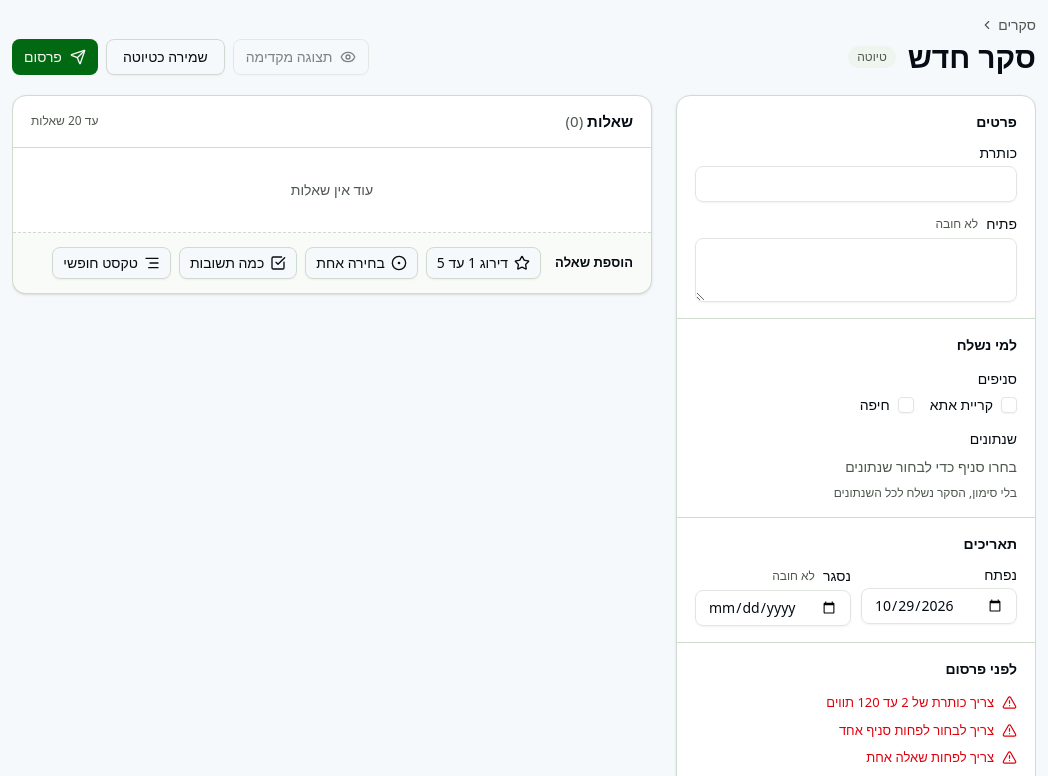
Test case: SurveyBuilder: Questions › the first Question cannot move up and the last cannot move down
What coordinates should you click on to do the following:
click the button "טקסט חופשי"
I would click on:
 (112, 262)
Its box is left=52, top=246, right=171, bottom=278.
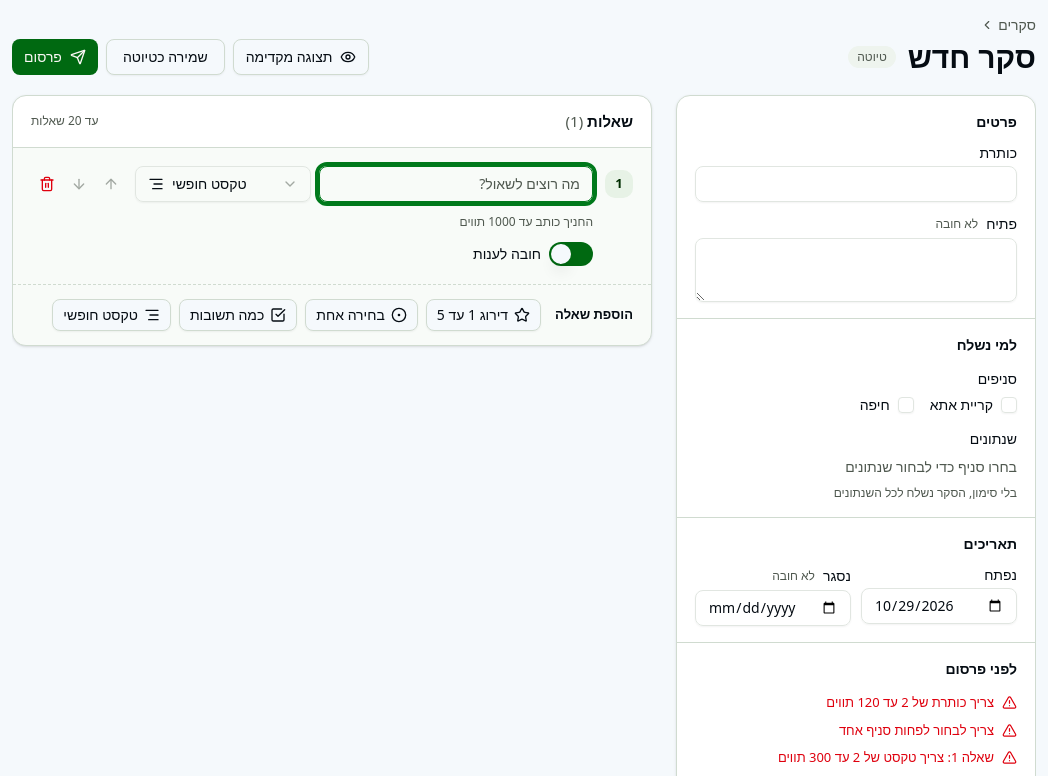
What coordinates should you click on to do the following:
click the button "טקסט חופשי"
I would click on:
 (112, 314)
Its box is left=52, top=298, right=171, bottom=330.
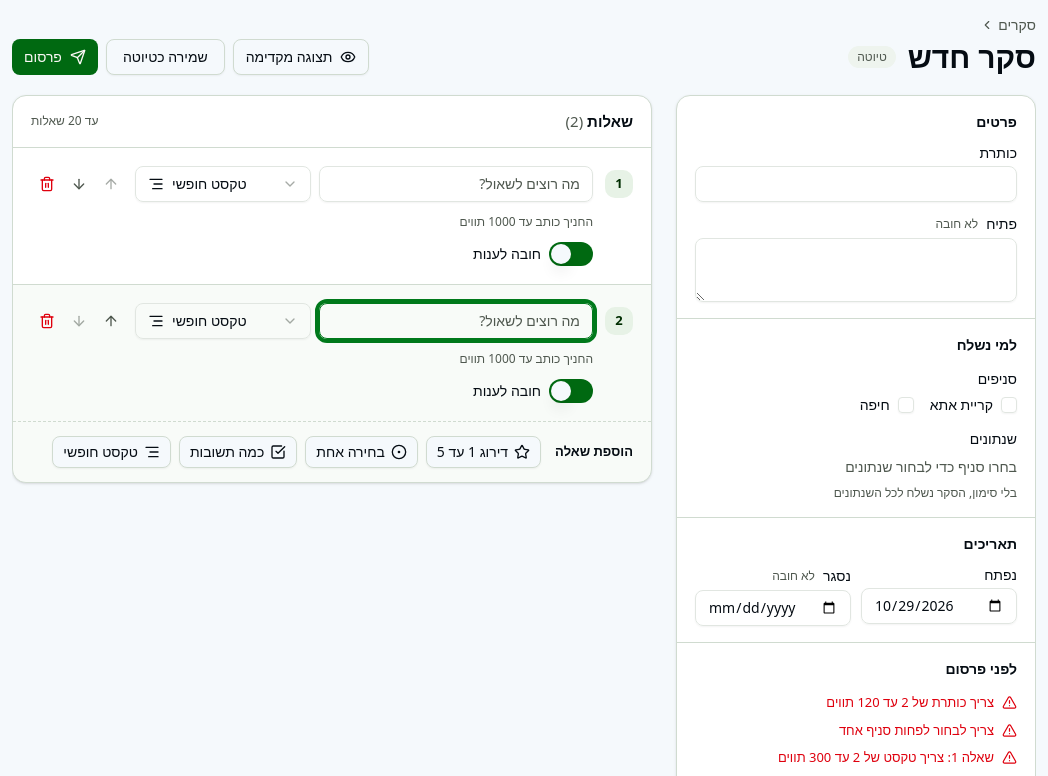
expect the button named "הזזת שאלה 1 למעלה" is disabled: met, box left=95, top=168, right=127, bottom=200
expect the button named "הזזת שאלה 2 למטה" is disabled: met, box left=63, top=304, right=95, bottom=336
